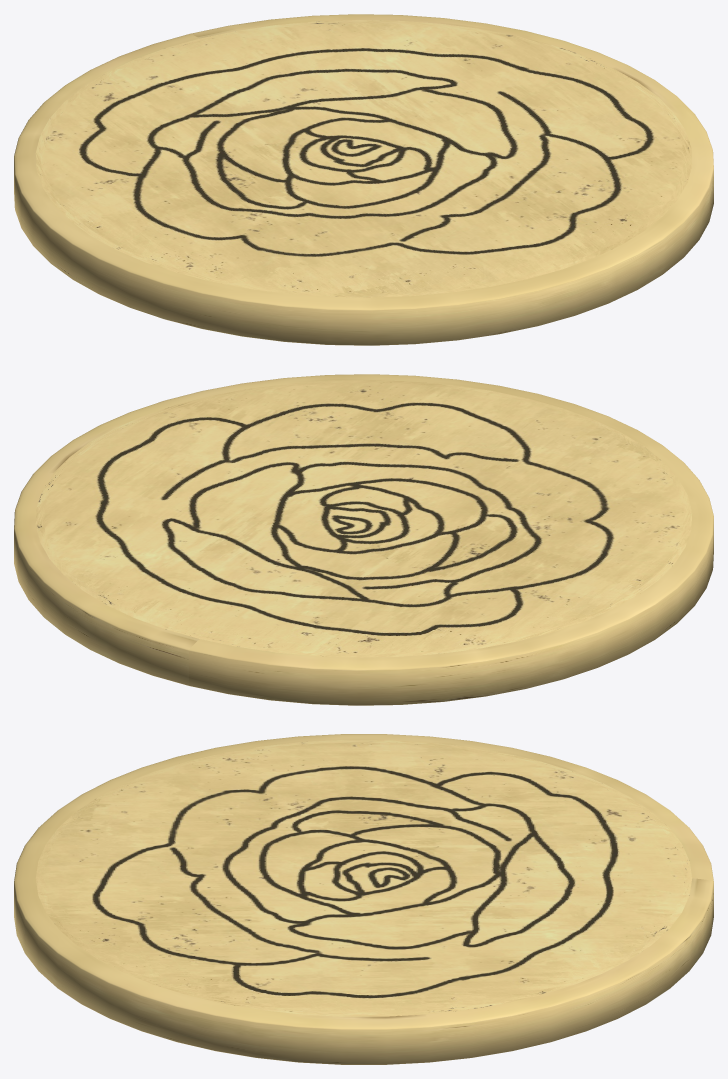
Rendered from Flower Token.fbx.
3 renders of one model, top to bottom at view 1: azimuth 30°, elevation 25°; view 2: azimuth 150°, elevation 25°; view 3: azimuth 270°, elevation 25°, orthographic.
Visible parts, largest first — view 1: Cylinder; view 2: Cylinder; view 3: Cylinder.
Boxes of the visible parts, <box> form: Cylinder: <box>14,14,713,345</box>; Cylinder: <box>14,374,713,705</box>; Cylinder: <box>14,734,713,1064</box>.
Bounding box in the file's own units: 200 × 14.64 × 200.
